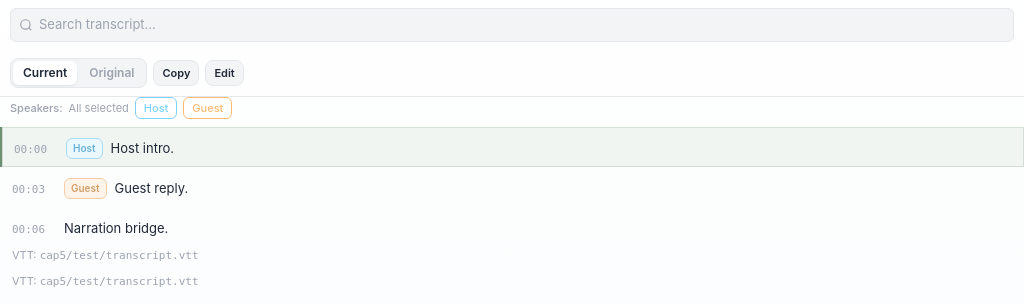
Scenario: TranscriptCard speaker selection › hides a deselected speaker line
The image size is (1024, 304).
Click the button with class "speaker-filter-chip" next to "All selected" at (156, 108), box [135,96,177,119]
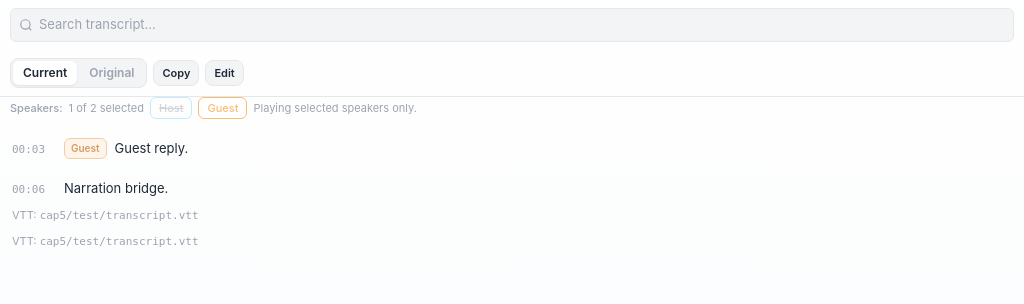
Expected: the text "Guest reply." is shown, [115,140,188,156]
Now the button "Host intro." is gone
